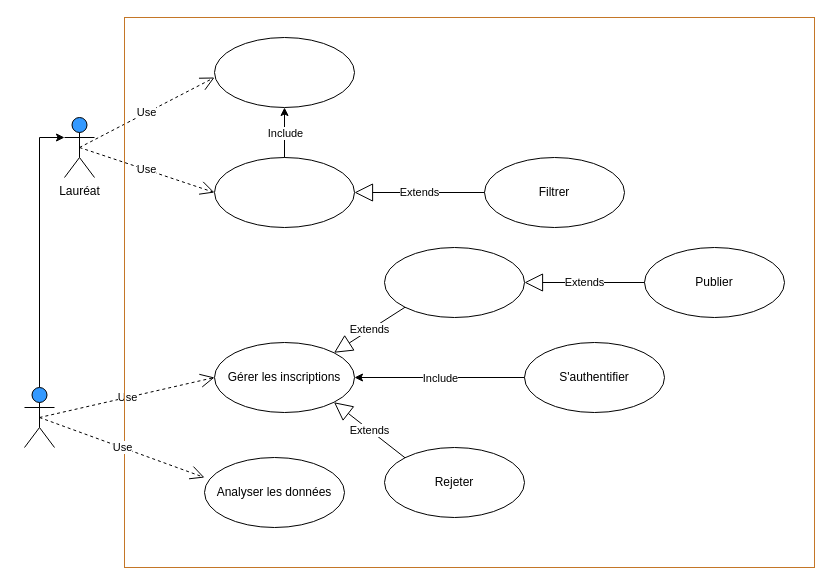
Some shapes in this 832 by 585 pixel diagram are drawn without their labels. Here are the shapes that lost their labels. From the top down, the centre of each, then its label:
At point 284,72: "S'inscrire".
At point 284,192: "Consulter la liste des lauréats".
At point 454,282: "Valider".
At point 39,417: "Membre".
